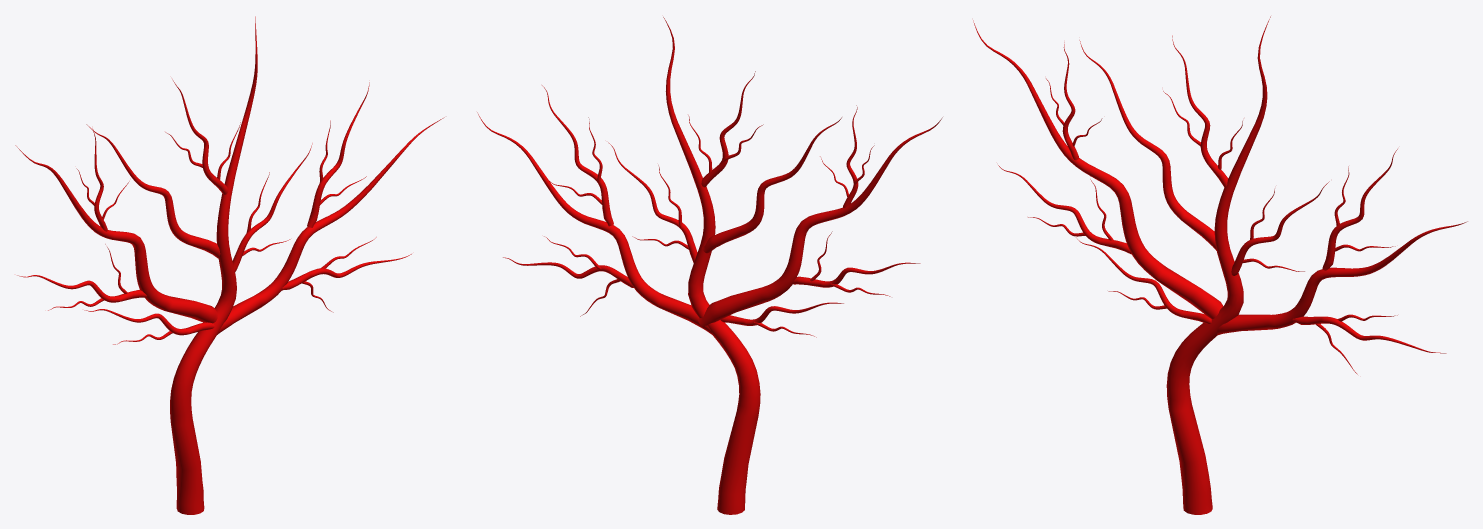
Rendered from trunk.fbx.
3 views of the same model, side by side, from view 1: azimuth 30°, elevation 25°; view 2: azimuth 150°, elevation 25°; view 3: azimuth 330°, elevation 25° (orthographic). The views are drawn at different scales.
Parts seen in each view (by area): view 1: sweep20; view 2: sweep20; view 3: sweep20.
Boxes of the visible parts, bbox=[...] form: sweep20: bbox=[15, 16, 444, 514]; sweep20: bbox=[477, 17, 942, 514]; sweep20: bbox=[973, 16, 1467, 514].
Bounding box in the file's own units: 472 × 479 × 50.93.
